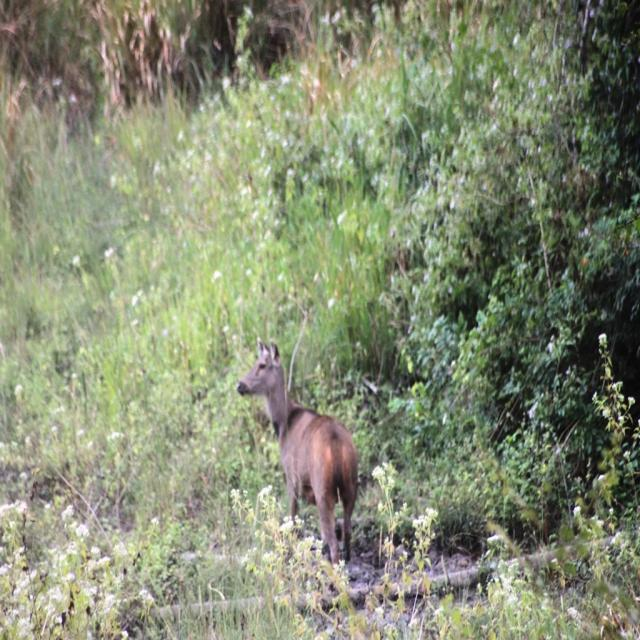Deer: (236, 336, 358, 564)
